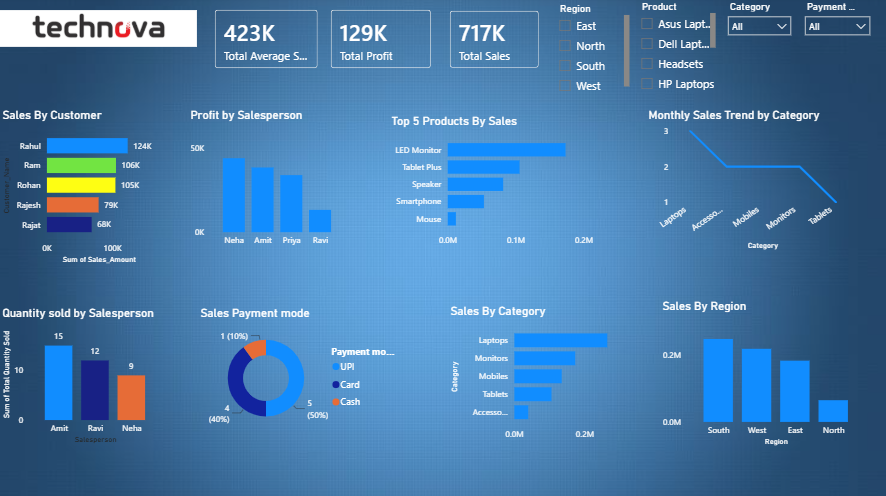

The dashboard page shown, as its layout file describes it:
{"tool":"powerbi","page":{"name":"Page 1","canvas":[1280,720],"ordinal":0},"visuals":[{"type":"lineChart","title":"Category Wise Monthly Sales Trend","fields":{"Category":["Order_ID (Sheet1).Category"],"Y":["CountNonNull(Order_ID (Sheet1).Order_ID)"]},"box":[944.6,159.8,301,208.8],"z":0},{"type":"columnChart","title":"Sales By Region","fields":{"Category":["Order_ID (Sheet1).Region"],"Y":["Sum(Order_ID (Sheet1).Sales_Amount)"]},"box":[950.4,434.9,301,216],"z":1000},{"type":"clusteredBarChart","title":"Sales By Category","fields":{"Category":["Order_ID (Sheet1).Category"],"Y":["Sum(Order_ID (Sheet1).Sales_Amount)"]},"box":[645.1,442.1,267.8,205.9],"z":2000},{"type":"barChart","title":"Top 5 Products","fields":{"Category":["Order_ID (Sheet1).Product"],"Y":["Sum(Order_ID (Sheet1).Sales_Amount)"]},"box":[560.2,168.5,301,200.2],"z":3000},{"type":"columnChart","title":"Salesperson performance by Profit","fields":{"Category":["Order_ID (Sheet1).Salesperson"],"Y":["Sum(Order_ID (Sheet1).Profit)"]},"box":[270.7,159.8,230.4,208.8],"z":4000},{"type":"donutChart","title":" Payment mode ","fields":{"Y":["CountNonNull(Order_ID (Sheet1).Payment mode)"],"Category":["Order_ID (Sheet1).Payment mode"]},"box":[285.1,445,296.6,188.6],"z":5000},{"type":"slicer","fields":{"Values":["Order_ID (Sheet1).Region"]},"box":[753.1,0,118.1,142.6],"z":6000},{"type":"slicer","fields":{"Values":["Order_ID (Sheet1).Product"]},"box":[882.7,0,123.8,142.6],"z":7000},{"type":"slicer","fields":{"Values":["Order_ID (Sheet1).Category"]},"box":[1025.3,2.9,110.9,149.8],"z":8000},{"type":"slicer","fields":{"Values":["Order_ID (Sheet1).Payment mode"]},"box":[1150.6,0,113.8,149.8],"z":9000},{"type":"pieChart","title":"Sales Amount per customer name","fields":{"Category":["Order_ID (Sheet1).Customer_Name"],"Y":["Sum(Order_ID (Sheet1).Sales_Amount)"]},"box":[0,159.8,239,229],"z":10000},{"type":"donutChart","title":"Total Quantity Sold by Salesperson","fields":{"Category":["Order_ID (Sheet1).Salesperson"],"Y":["Sum(Order_ID (Sheet1).Total Quantity Sold)"]},"box":[0,445.1,238.5,203.3],"z":11000},{"type":"cardVisual","fields":{"Data":["Sum(Order_ID (Sheet1).Average Sales)"]},"box":[312.5,0,159.8,96.5],"z":12000},{"type":"cardVisual","fields":{"Data":["Sum(Order_ID (Sheet1).Sales_Amount)"]},"box":[452.2,0,161.3,96.5],"z":13000},{"type":"cardVisual","fields":{"Data":["Sum(Order_ID (Sheet1).Total Sales Revenue)"]},"box":[591.8,0,177.1,96.5],"z":14000},{"type":"image","box":[0,15.8,312.5,59],"z":15000}]}

Visuals, with their boxes in screenshot pixels (x1, y1, x2, y2), scaled from the page's 1280x720 canvas onto the 886x496 screenshot:
"Category Wise Monthly Sales Trend" lineChart: crop(654, 110, 862, 254)
"Sales By Region" columnChart: crop(658, 300, 866, 448)
"Sales By Category" clusteredBarChart: crop(447, 305, 632, 446)
"Top 5 Products" barChart: crop(388, 116, 596, 254)
"Salesperson performance by Profit" columnChart: crop(187, 110, 347, 254)
" Payment mode " donutChart: crop(197, 307, 403, 436)
slicer - Order_ID (Sheet1).Region: crop(521, 0, 603, 98)
slicer - Order_ID (Sheet1).Product: crop(611, 0, 697, 98)
slicer - Order_ID (Sheet1).Category: crop(710, 2, 786, 105)
slicer - Order_ID (Sheet1).Payment mode: crop(796, 0, 875, 103)
"Sales Amount per customer name" pieChart: crop(0, 110, 165, 268)
"Total Quantity Sold by Salesperson" donutChart: crop(0, 307, 165, 447)
cardVisual - Sum(Order_ID (Sheet1).Average Sales): crop(216, 0, 327, 66)
cardVisual - Sum(Order_ID (Sheet1).Sales_Amount): crop(313, 0, 425, 66)
cardVisual - Sum(Order_ID (Sheet1).Total Sales Revenue): crop(410, 0, 532, 66)
image: crop(0, 11, 216, 52)
